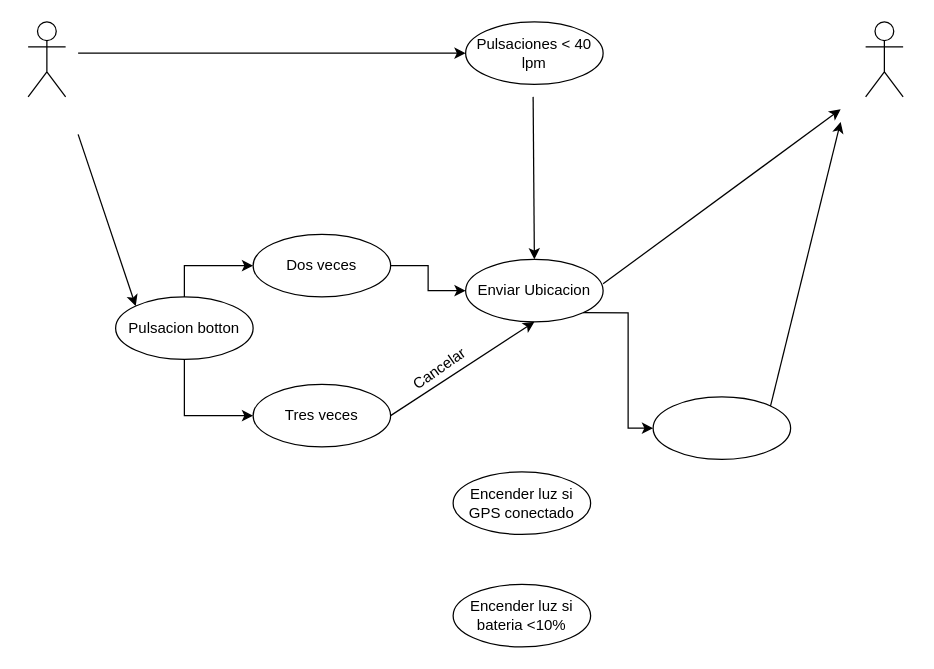
The diagram is 934 pixels wide and 669 high, and some of its shapes have lost their labels. The centre of each missing label's shape, as x and y in pixels:
Encender luz si se envio y recibio ubicacion: the point at 721,427
Servidor: the point at 883,59
Usuario: the point at 46,59
